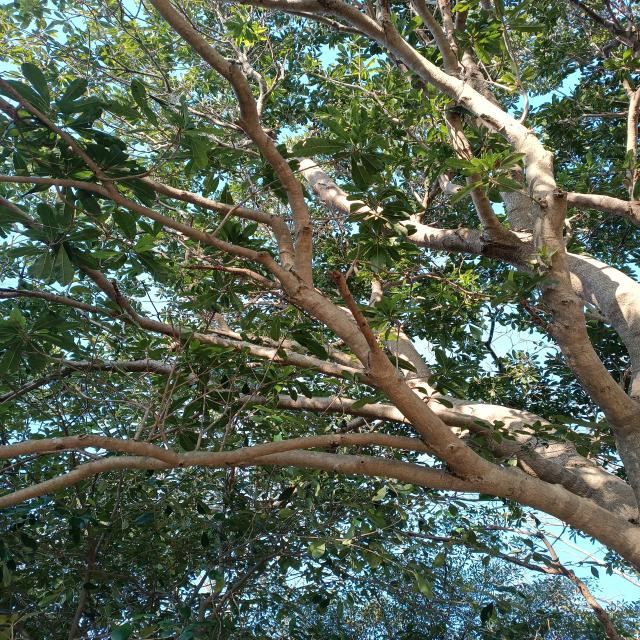Branch: (233, 0, 640, 424), (289, 270, 640, 569), (151, 0, 316, 291), (67, 360, 499, 431), (0, 449, 452, 511), (298, 155, 479, 253), (119, 314, 370, 384)
Twig: (0, 78, 287, 288), (411, 0, 513, 237), (101, 164, 296, 266), (0, 193, 136, 315), (0, 434, 429, 471), (77, 51, 246, 133), (175, 2, 268, 119), (327, 238, 381, 351), (0, 288, 128, 322), (182, 265, 285, 288), (263, 31, 281, 99)
